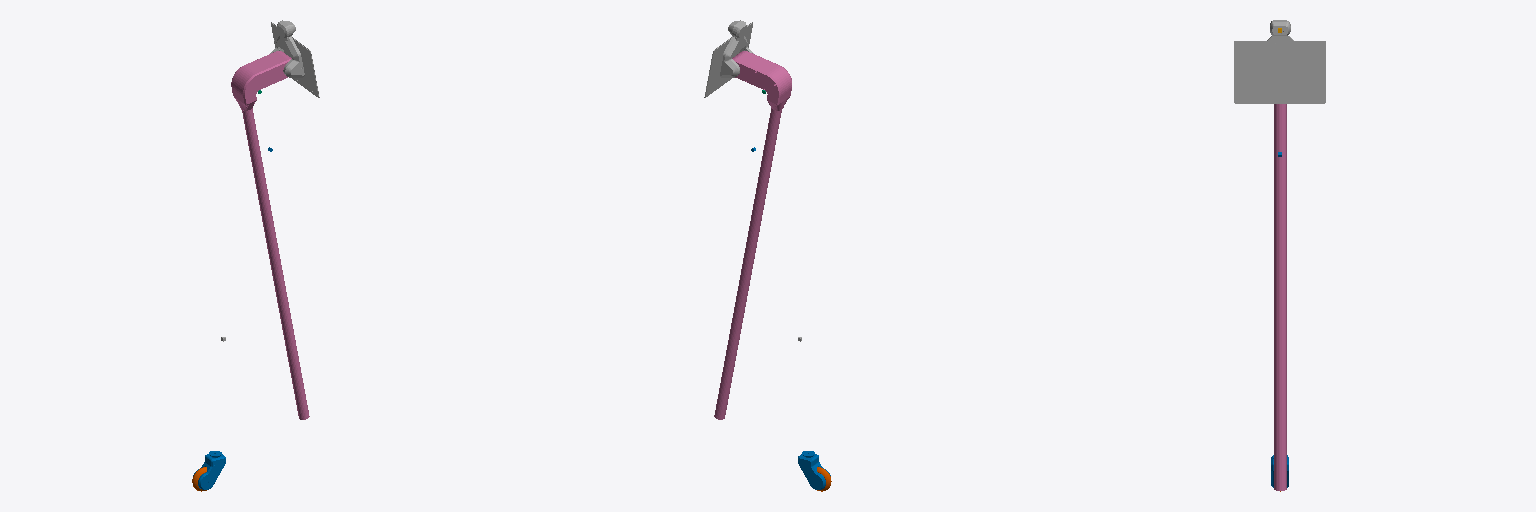
URDF robot description (tb_sim):
<?xml version="1.0" encoding="utf-8"?>
<!-- =================================================================================== -->
<!-- |    This document was autogenerated by xacro from tb_sim.urdf.xacro              | -->
<!-- |    EDITING THIS FILE BY HAND IS NOT RECOMMENDED                                 | -->
<!-- =================================================================================== -->
<robot name="tb_sim">
  <!-- Define robot physical and appearance model-->
  <!-- Using dummy/roundly estimated number for inertia, friction model-->
  <!-- IMPROVE
  * More simplify robot mesh files to run faster
  * Add material and calculate precise inertia tensor
  * Modify the friction model to get nature physical interaction-->
  <!-- Define robot links and joints -->
  <link name="footprint"/>
  <joint name="footprint_joint" type="fixed">
    <origin rpy="0 0.0 0" xyz="0.0 0.0 -0.076"/>
    <parent link="base_link"/>
    <child link="footprint"/>
    <axis xyz="0 0 0"/>
  </joint>
  <link name="base_link">
    <inertial>
      <origin rpy="0.0 0.0 0.0" xyz="-0.15 0.0 0.01"/>
      <mass value="5.5"/>
      <inertia ixx="0.03158" ixy="0" ixz="0" iyy="0.04418" iyz="0" izz="0.069898"/>
    </inertial>
    <visual>
      <origin rpy="0 0 0" xyz="0 0 0"/>
      <geometry>
        <mesh filename="package://tb_description/meshes/base_link.STL"/>
      </geometry>
    </visual>
    <collision>
      <origin rpy="0 0 0" xyz="0 0 0"/>
      <geometry>
        <mesh filename="package://tb_description/meshes/base_link.STL"/>
      </geometry>
    </collision>
    <gazebo reference="base_link">
      <material>Gazebo/Blue</material>
    </gazebo>
  </link>
  <link name="wheel_left_link">
    <inertial>
      <mass value="0.2"/>
      <inertia ixx="0.00039792" ixy="0" ixz="0" iyy="0.00078467" iyz="0" izz="0.00039792"/>
    </inertial>
    <visual>
      <geometry>
        <mesh filename="package://tb_description/meshes/wheel_link.STL"/>
      </geometry>
      <material name="black"/>
    </visual>
    <collision>
      <geometry>
        <mesh filename="package://tb_description/meshes/wheel_link.STL"/>
      </geometry>
    </collision>
  </link>
  <joint name="wheel_left_joint" type="continuous">
    <origin rpy="0 0 0" xyz="0 0.165 0"/>
    <parent link="base_link"/>
    <child link="wheel_left_link"/>
    <axis xyz="0 1 0"/>
  </joint>
  <gazebo reference="wheel_left_link">
    <material>Gazebo/FlatBlack</material>
    <mu1>1.0</mu1>
    <mu2>1.0</mu2>
    <kp>10000000.0</kp>
    <kd>1.0</kd>
  </gazebo>
  <link name="wheel_right_link">
    <inertial>
      <mass value="0.2"/>
      <inertia ixx="0.00039792" ixy="0" ixz="0" iyy="0.00078467" iyz="0" izz="0.00039792"/>
    </inertial>
    <visual>
      <geometry>
        <mesh filename="package://tb_description/meshes/wheel_link.STL"/>
      </geometry>
      <material name="black"/>
    </visual>
    <collision>
      <geometry>
        <mesh filename="package://tb_description/meshes/wheel_link.STL"/>
      </geometry>
    </collision>
  </link>
  <joint name="wheel_right_joint" type="continuous">
    <origin rpy="0 0 0" xyz="0 -0.165 0"/>
    <parent link="base_link"/>
    <child link="wheel_right_link"/>
    <axis xyz="0 1 0"/>
  </joint>
  <gazebo reference="wheel_right_link">
    <material>Gazebo/FlatBlack</material>
    <mu1>1.0</mu1>
    <mu2>1.0</mu2>
    <kp>10000000.0</kp>
    <kd>1.0</kd>
  </gazebo>
  <link name="caster_link">
    <inertial>
      <origin rpy="0 0 0" xyz="-0.016859 0 -0.039"/>
      <mass value="0.12725"/>
      <inertia ixx="0.00013389" ixy="-3.291E-08" ixz="-5.4328E-05" iyy="0.00016302" iyz="-4.433E-08" izz="9.9804E-05"/>
    </inertial>
    <visual>
      <origin rpy="0 0 0" xyz="0 0 0"/>
      <geometry>
        <mesh filename="package://tb_description/meshes/caster_link.STL"/>
      </geometry>
    </visual>
    <collision>
      <origin rpy="0 0 0" xyz="0 0 0"/>
      <geometry>
        <mesh filename="package://tb_description/meshes/caster_link.STL"/>
      </geometry>
    </collision>
  </link>
  <joint name="caster_joint" type="continuous">
    <origin rpy="0 0 0" xyz="-0.32849 0 0.036"/>
    <parent link="base_link"/>
    <child link="caster_link"/>
    <axis xyz="0 0 1"/>
    <safety_controller k_velocity="0"/>
  </joint>
  <link name="caster_wheel_link">
    <inertial>
      <origin rpy="0 0 0" xyz="0 7.5E-05 0"/>
      <mass value="0.055271"/>
      <inertia ixx="2.6207E-05" ixy="0" ixz="0" iyy="4.8328E-05" iyz="0" izz="2.6207E-05"/>
    </inertial>
    <visual>
      <origin rpy="0 0 0" xyz="0 0 0"/>
      <geometry>
        <mesh filename="package://tb_description/meshes/caster_wheel_link.STL"/>
      </geometry>
    </visual>
    <collision>
      <origin rpy="0 0 0" xyz="0 0 0"/>
      <geometry>
        <mesh filename="package://tb_description/meshes/caster_wheel_link.STL"/>
      </geometry>
    </collision>
  </link>
  <joint name="caster_wheel_joint" type="continuous">
    <origin rpy="0 0 0" xyz="-0.039059 0 -0.075"/>
    <parent link="caster_link"/>
    <child link="caster_wheel_link"/>
    <axis xyz="0 1 0"/>
    <safety_controller k_velocity="0"/>
  </joint>
  <link name="tube_link">
    <inertial>
      <origin rpy="0 0 0" xyz="0.02 0 0.6"/>
      <mass value="2"/>
      <inertia ixx="0.2083333333" ixy="0.0" ixz="0.0" iyy="0.2083333333" iyz="0.0" izz="0.000905"/>
    </inertial>
    <visual>
      <origin rpy="0 0 0" xyz="0 0 0"/>
      <geometry>
        <mesh filename="package://tb_description/meshes/tube_link.STL"/>
      </geometry>
    </visual>
    <collision>
      <origin rpy="0 0 0" xyz="0 0 0"/>
      <geometry>
        <mesh filename="package://tb_description/meshes/tube_link.STL"/>
      </geometry>
    </collision>
    <gazebo reference="tube_link">
      <material>Gazebo/Orange</material>
    </gazebo>
    tb_gazebo
  
  </link>
  <joint name="tube_joint" type="fixed">
    <origin rpy="0 -0.18326 0" xyz="-0.026814 0 0.083753"/>
    <parent link="base_link"/>
    <child link="tube_link"/>
    <axis xyz="0 0 0"/>
    <safety_controller k_velocity="0"/>
  </joint>
  <link name="display_link">
    <inertial>
      <origin rpy="0 0 0" xyz="0.02866 0.0042627 0.019125"/>
      <mass value="0.3"/>
      <inertia ixx="0.0015625" ixy="0" ixz="0" iyy="0.000625" iyz="0" izz="0.0010625"/>
    </inertial>
    <visual>
      <origin rpy="0 0 0" xyz="0 0 0"/>
      <geometry>
        <mesh filename="package://tb_description/meshes/display_link.STL"/>
      </geometry>
    </visual>
    <collision>
      <origin rpy="0 0 0" xyz="0 0 0"/>
      <geometry>
        <mesh filename="package://tb_description/meshes/display_link.STL"/>
      </geometry>
    </collision>
  </link>
  <joint name="neck_joint" type="continuous">
    <origin rpy="0 0 0" xyz="0.14191 0 1.1557"/>
    <parent link="tube_link"/>
    <child link="display_link"/>
    <axis xyz="0.0 1 0.0"/>
    <safety_controller k_velocity="0"/>
  </joint>
  <!-- Define sensor from xacro -->
  <!-- urdf format -->
  <!-- dummy camera link attached to the camera rigid body -->
  <link name="tele_camera_link">
    <visual>
      <geometry>
        <box size="0.01 0.01 0.01"/>
      </geometry>
    </visual>
    <collision>
      <geometry>
        <box size="0.01 0.01 0.01"/>
      </geometry>
    </collision>
    <inertial>
      <mass value="0.01"/>
      <inertia ixx="0" ixy="0" ixz="0" iyy="0" iyz="0" izz="0"/>
    </inertial>
  </link>
  <joint name="tele_camera_mount_joint" type="fixed">
    <origin rpy="0.0 0.0 0" xyz="0.05 0 0.11"/>
    <parent link="display_link"/>
    <child link="tele_camera_link"/>
  </joint>
  <link name="tele_optical_frame"/>
  <joint name="tele_optical_joint" type="fixed">
    <origin rpy="1.570795 3.14159 1.570795" xyz="0 0 0"/>
    <parent link="tele_camera_link"/>
    <child link="tele_optical_frame"/>
  </joint>
  <gazebo reference="tele_camera_link">
    <sensor name="tele_camera" type="camera">
      <update_rate>30</update_rate>
      <camera>
        <horizontal_fov>2.09439</horizontal_fov>
        <image>
          <width>640</width>
          <height>480</height>
          <format>R8G8B8</format>
        </image>
        <clip>
          <near>0.01</near>
          <far>20</far>
        </clip>
        <noise>
          <type>gaussian</type>
          <!-- Noise is sampled independently per pixel on each frame.
                  That pixel's noise value is added to each of its color
                  channels, which at that point lie in the range [0,1]. -->
          <mean>0.0</mean>
          <stddev>0.007</stddev>
        </noise>
      </camera>
      <plugin filename="libgazebo_ros_camera.so" name="camera_plugin">
        <alwaysOn>true</alwaysOn>
        <updateRate>0.0</updateRate>
        <cameraName>tele_camera</cameraName>
        <imageTopicName>image_raw</imageTopicName>
        <cameraInfoTopicName>camera_info</cameraInfoTopicName>
        <frameName>tele_optical_frame</frameName>
        <hackBaseline>0.07</hackBaseline>
        <distortionK1>0.0</distortionK1>
        <distortionK2>0.0</distortionK2>
        <distortionK3>0.0</distortionK3>
        <distortionT1>0.0</distortionT1>
        <distortionT2>0.0</distortionT2>
      </plugin>
    </sensor>
  </gazebo>
  <!-- urdf format -->
  <!-- dummy camera link attached to the camera rigid body -->
  <link name="nav_camera_link">
    <visual>
      <geometry>
        <box size="0.01 0.01 0.01"/>
      </geometry>
    </visual>
    <collision>
      <geometry>
        <box size="0.01 0.01 0.01"/>
      </geometry>
    </collision>
    <inertial>
      <mass value="0.01"/>
      <inertia ixx="0" ixy="0" ixz="0" iyy="0" iyz="0" izz="0"/>
    </inertial>
  </link>
  <joint name="nav_camera_mount_joint" type="fixed">
    <origin rpy="0.0 1.39626222222 0" xyz="0.05 0 1.1"/>
    <parent link="tube_link"/>
    <child link="nav_camera_link"/>
  </joint>
  <link name="nav_optical_frame"/>
  <joint name="nav_optical_joint" type="fixed">
    <origin rpy="1.570795 3.14159 1.570795" xyz="0 0 0"/>
    <parent link="nav_camera_link"/>
    <child link="nav_optical_frame"/>
  </joint>
  <gazebo reference="nav_camera_link">
    <sensor name="nav_camera" type="camera">
      <update_rate>30</update_rate>
      <camera>
        <horizontal_fov>2.09439</horizontal_fov>
        <image>
          <width>640</width>
          <height>480</height>
          <format>R8G8B8</format>
        </image>
        <clip>
          <near>0.01</near>
          <far>5</far>
        </clip>
        <noise>
          <type>gaussian</type>
          <!-- Noise is sampled independently per pixel on each frame.
                  That pixel's noise value is added to each of its color
                  channels, which at that point lie in the range [0,1]. -->
          <mean>0.0</mean>
          <stddev>0.007</stddev>
        </noise>
      </camera>
      <plugin filename="libgazebo_ros_camera.so" name="camera_plugin">
        <alwaysOn>true</alwaysOn>
        <updateRate>0.0</updateRate>
        <cameraName>nav_camera</cameraName>
        <imageTopicName>image_raw</imageTopicName>
        <cameraInfoTopicName>camera_info</cameraInfoTopicName>
        <frameName>nav_optical_frame</frameName>
        <hackBaseline>0.07</hackBaseline>
        <distortionK1>0.0</distortionK1>
        <distortionK2>0.0</distortionK2>
        <distortionK3>0.0</distortionK3>
        <distortionT1>0.0</distortionT1>
        <distortionT2>0.0</distortionT2>
      </plugin>
    </sensor>
  </gazebo>
  <!-- urdf format -->
  <link name="astra_link">
    <visual>
      <geometry>
        <!-- <mesh filename="package://tb_description/meshes/sensors/kinect.dae"/> -->
        <box size="0.01 0.01 0.01"/>
      </geometry>
    </visual>
    <collision>
      <geometry>
        <!-- <box size="0.07 0.3 0.09"/> -->
        <box size="0.01 0.01 0.01"/>
      </geometry>
    </collision>
    <inertial>
      <mass value="0.01"/>
      <inertia ixx="0" ixy="0" ixz="0" iyy="0" iyz="0" izz="0"/>
    </inertial>
  </link>
  <joint name="astra_mount_joint" type="fixed">
    <origin rpy="0.0 0.872663888889 0" xyz="0.05 0 0.9"/>
    <parent link="tube_link"/>
    <!--<parent link="base_link"/>-->
    <child link="astra_link"/>
  </joint>
  <link name="astra_optical_frame"/>
  <joint name="astra_optical_joint" type="fixed">
    <origin rpy="1.570795 3.14159 1.570795" xyz="0 0 0"/>
    <parent link="astra_link"/>
    <child link="astra_optical_frame"/>
  </joint>
  <gazebo reference="astra_link">
    <sensor name="depth_camera" type="depth">
      <update_rate>30</update_rate>
      <camera>
        <horizontal_fov>1.047198</horizontal_fov>
        <image>
          <!--          <width>160</width>
            <height>120</height>-->
          <width>320</width>
          <height>240</height>
          <!--     <width>640</width>
            <height>480</height>-->
          <!--     <width>480</width>
            <height>270</height>-->
          <format>R8G8B8</format>
        </image>
        <clip>
          <near>0.1</near>
          <far>15</far>
        </clip>
      </camera>
      <plugin filename="libgazebo_ros_openni_kinect.so" name="depth_camera_plugin">
        <baseline>0.2</baseline>
        <alwaysOn>true</alwaysOn>
        <!-- Keep this zero, update_rate in the parent <sensor> tag will control the frame rate. -->
        <updateRate>0</updateRate>
        <cameraName>astra</cameraName>
        <imageTopicName>/astra/rgb/image_raw</imageTopicName>
        <cameraInfoTopicName>/astra/rgb/camera_info</cameraInfoTopicName>
        <depthImageTopicName>/astra/depth/image_raw</depthImageTopicName>
        <depthImageInfoTopicName>/astra/depth/camera_info</depthImageInfoTopicName>
        <pointCloudTopicName>/astra/depth/points</pointCloudTopicName>
        <frameName>astra_optical_frame</frameName>
        <pointCloudCutoff>0.03</pointCloudCutoff>
        <pointCloudCutoffMax>5.0</pointCloudCutoffMax>
        <!-- for 320x240 -->
        <focalLength>277.127346</focalLength>
        <!-- for 640x480 -->
        <!-- <focalLength>554.25469</focalLength> -->
        <distortionK1>0</distortionK1>
        <distortionK2>0</distortionK2>
        <distortionK3>0</distortionK3>
        <distortionT1>0</distortionT1>
        <distortionT2>0</distortionT2>
        <CxPrime>0</CxPrime>
        <!-- <Cx>320</Cx>
          <Cy>240</Cy> -->
        <!-- <Cx>160</Cx>
          <Cy>120</Cy> -->
        <hackBaseline>0</hackBaseline>
      </plugin>
    </sensor>
  </gazebo>
  <!-- urdf format -->
  <link name="imu_base_frame"/>
  <joint name="imu_base_mount_joint" type="fixed">
    <origin rpy="0.0 0.0 0" xyz="0 0 0"/>
    <parent link="base_link"/>
    <child link="imu_base_frame"/>
  </joint>
  <!--    change reference to parent_link, loop?-->
  <gazebo reference="base_link">
    <gravity>true</gravity>
    <sensor name="imu_sensor" type="imu">
      <always_on>true</always_on>
      <update_rate>100</update_rate>
      <visualize>true</visualize>
      <topic>__default_topic__</topic>
      <imu>
        <noise>
          <type>none</type>
        </noise>
      </imu>
      <plugin filename="libgazebo_ros_imu_sensor.so" name="imu_plugin">
        <topicName>tb_sim/imu</topicName>
        <bodyName>imu_base_frame</bodyName>
        <updateRateHZ>0</updateRateHZ>
        <gaussianNoise>0.0</gaussianNoise>
        <xyzOffset>0 0 0</xyzOffset>
        <rpyOffset>0 0 0</rpyOffset>
        <frameName>base_link</frameName>
      </plugin>
      <!-- <pose>0 0 0 0 0 0</pose> -->
    </sensor>
  </gazebo>
  <!-- urdf format -->
  <link name="laser_range_link">
    <visual>
      <geometry>
        <box size="0.01 0.01 0.01"/>
      </geometry>
    </visual>
    <collision>
      <geometry>
        <box size="0.01 0.01 0.01"/>
      </geometry>
    </collision>
    <inertial>
      <mass value="0.01"/>
      <inertia ixx="0" ixy="0" ixz="0" iyy="0" iyz="0" izz="0"/>
    </inertial>
  </link>
  <joint name="laser_range_mount_joint" type="fixed">
    <origin rpy="0.0 0.0 0" xyz="-0.3 0 0.4"/>
    <parent link="base_link"/>
    <child link="laser_range_link"/>
  </joint>
  <gazebo reference="laser_range_link">
    <sensor name="laser_range_sensor" type="gpu_ray">
      <pose>0 0 0 0 0 0</pose>
      <visualize>false</visualize>
      <update_rate>10</update_rate>
      <ray>
        ase
          
        <scan>
          <horizontal>
            <samples>360</samples>
            <resolution>1</resolution>
            <min_angle>-3.14159</min_angle>
            <max_angle>3.14159</max_angle>
          </horizontal>
        </scan>
        <range>
          <min>0.15</min>
          <max>10.0</max>
          <resolution>0.02</resolution>
        </range>
        <noise>
          <type>gaussian</type>
          <!-- Noise parameters based on published spec for Hokuyo laser
                 achieving "+-30mm" accuracy at range < 10m.  A mean of 0.0m and
                 stddev of 0.01m will put 99.7% of samples within 0.03m of the true
                 reading. -->
          <mean>0.0</mean>
          <stddev>0.01</stddev>
        </noise>
      </ray>
      <plugin filename="libgazebo_ros_gpu_laser.so" name="gazebo_ros_head_hokuyo_controller">
        <topicName>/laser_range/laser_scan</topicName>
        <frameName>laser_range_link</frameName>
      </plugin>
    </sensor>
  </gazebo>
  <gazebo>
    <plugin filename="libgazebo_ros_diff_drive.so" name="differential_drive_controller">
      <alwaysOn>true</alwaysOn>
      <publishWheelTF>true</publishWheelTF>
      <updateRate>100</updateRate>
      <leftJoint>wheel_left_joint</leftJoint>
      <rightJoint>wheel_right_joint</rightJoint>
      <wheelSeparation>0.33</wheelSeparation>
      <wheelDiameter>0.152</wheelDiameter>
      <wheelTorque>20</wheelTorque>
      <commandTopic>tb_sim/cmd_vel</commandTopic>
      <odometryTopic>tb_sim/odom</odometryTopic>
      <odometryFrame>tb_sim/odom</odometryFrame>
      <robotBaseFrame>base_link</robotBaseFrame>
      <odometrySource>encoder</odometrySource>
      <!--        <odometrySource>world</odometrySource>-->
    </plugin>
  </gazebo>
  <!--<transmission name="tran1">
      <type>transmission_interface/SimpleTransmission</type>
      <joint name="${joint_name}">
        <hardwareInterface>EffortJointInterface</hardwareInterface>
      </joint>
      <actuator name="servo">
        <hardwareInterface>EffortJointInterface</hardwareInterface>
        <mechanicalReduction>1</mechanicalReduction>
      </actuator>
    </transmission>

    <gazebo>
      <plugin name="gazebo_ros_control" filename="libgazebo_ros_control.so">
        <robotNamespace>${robotname}</robotNamespace>
      </plugin>
    </gazebo>-->
  <gazebo>
    <plugin filename="libtb_gazebo_ros_servo_pos_drive.so" name="gazebo_ros_joint_pos_control">
      <updateRate>100</updateRate>
      <robotNamespace>tb_sim</robotNamespace>
      <jointName>neck_joint</jointName>
      <controllerKp>7</controllerKp>
      <controllerKi>0.1</controllerKi>
      <controllerKd>0.2</controllerKd>
      <torque>50</torque>
    </plugin>
  </gazebo>
</robot>

--- What the picture shows (computed from the rendered views, not written in the file) ---
3 views of the same robot in one strip: view 1: azimuth 30°, elevation 25°; view 2: azimuth 150°, elevation 25°; view 3: azimuth 270°, elevation 25° (orthographic).
Robot: tb_sim — 16 links, 15 joints (5 continuous, 10 fixed); root link base_link; default pose: every joint at zero.
Links seen in each view (by area): view 1: tube_link, display_link, caster_link; view 2: tube_link, display_link, caster_link; view 3: display_link, tube_link.
Boxes of the visible links, x1=… form: tube_link: x1=231, y1=51, x2=309, y2=419; display_link: x1=270, y1=20, x2=319, y2=97; caster_link: x1=193, y1=451, x2=225, y2=489; tube_link: x1=714, y1=51, x2=791, y2=419; display_link: x1=704, y1=20, x2=753, y2=97; caster_link: x1=798, y1=451, x2=830, y2=489; display_link: x1=1234, y1=20, x2=1325, y2=103; tube_link: x1=1274, y1=104, x2=1286, y2=490.
Size in the robot's own frame: 0.3945 by 0.2375 by 1.45 metres.
4 mesh visuals loaded from 6 distinct referenced files (4 binary STL); not drawn: 3 (reference not matched to a file when rendering).
